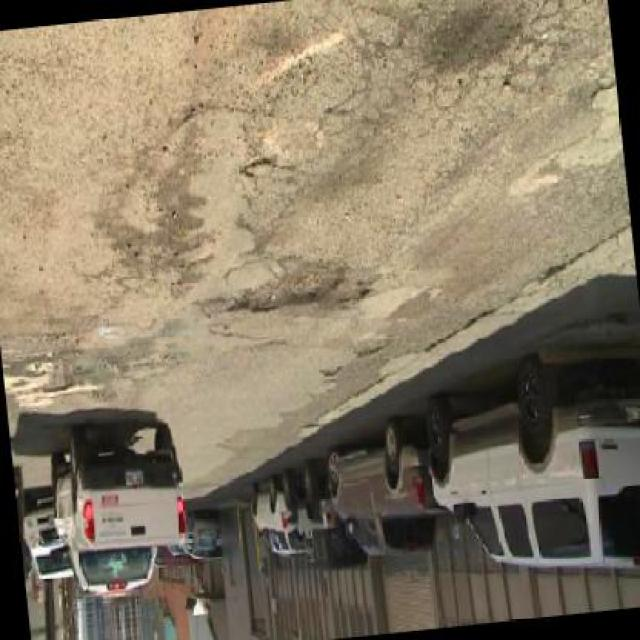pothole: (225, 266, 347, 325), (339, 276, 376, 312), (38, 380, 80, 406)
